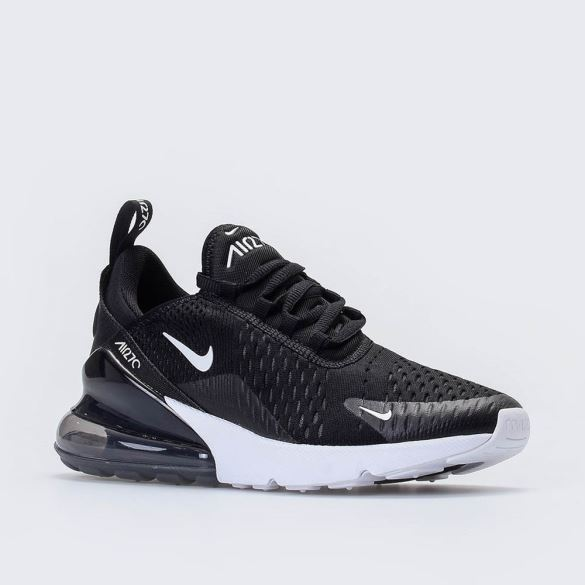nike: (164, 331, 219, 377), (358, 403, 393, 423)
